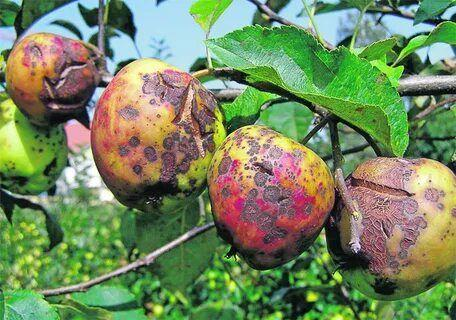Apple: (92, 58, 228, 213), (324, 157, 456, 301), (209, 124, 336, 270)
